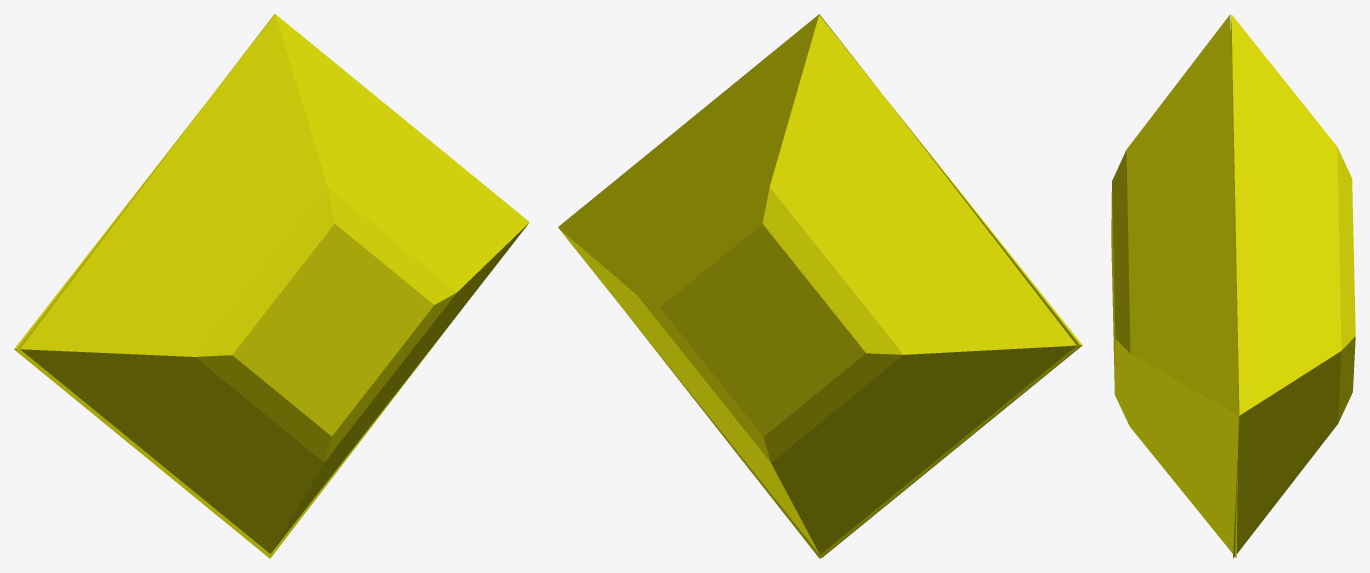
File: yellow_gem.glb
3 renders of one model, left to right at view 1: azimuth 30°, elevation 25°; view 2: azimuth 150°, elevation 25°; view 3: azimuth 270°, elevation 25°, orthographic.
Parts seen in each view (by area): view 1: Cube; view 2: Cube; view 3: Cube.
Boxes of the visible parts, <box> form: Cube: <box>14,14,529,558</box>; Cube: <box>558,14,1082,558</box>; Cube: <box>1111,14,1355,558</box>.
Bounding box in the file's own units: 2.29 × 2.29 × 0.9268.
